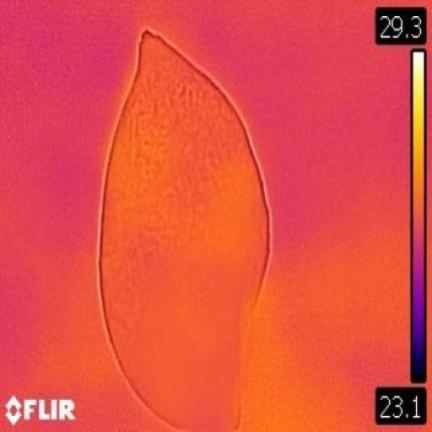mango: (102, 32, 269, 428)
